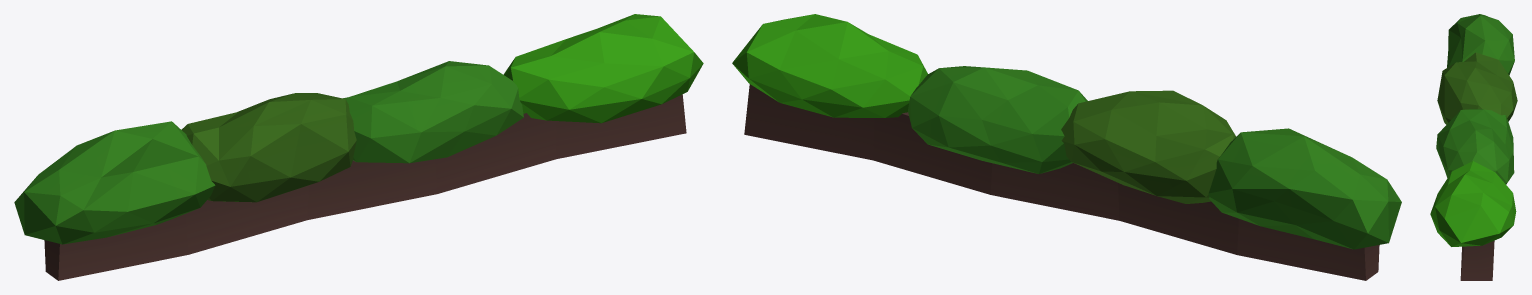
Rendered from Shrub_Long.glb.
3 renders of one model, left to right at view 1: azimuth 30°, elevation 25°; view 2: azimuth 150°, elevation 25°; view 3: azimuth 270°, elevation 25°, orthographic. The views are drawn at different scales.
Parts seen in each view (by area): view 1: Shrub.Long; view 2: Shrub.Long; view 3: Shrub.Long.
Boxes of the visible parts, <box> form: Shrub.Long: <box>14,14,703,280</box>; Shrub.Long: <box>732,14,1401,280</box>; Shrub.Long: <box>1430,14,1517,280</box>.
Bounding box in the file's own units: 6.86 × 1.26 × 1.18.
2 materials, 2 textured.
